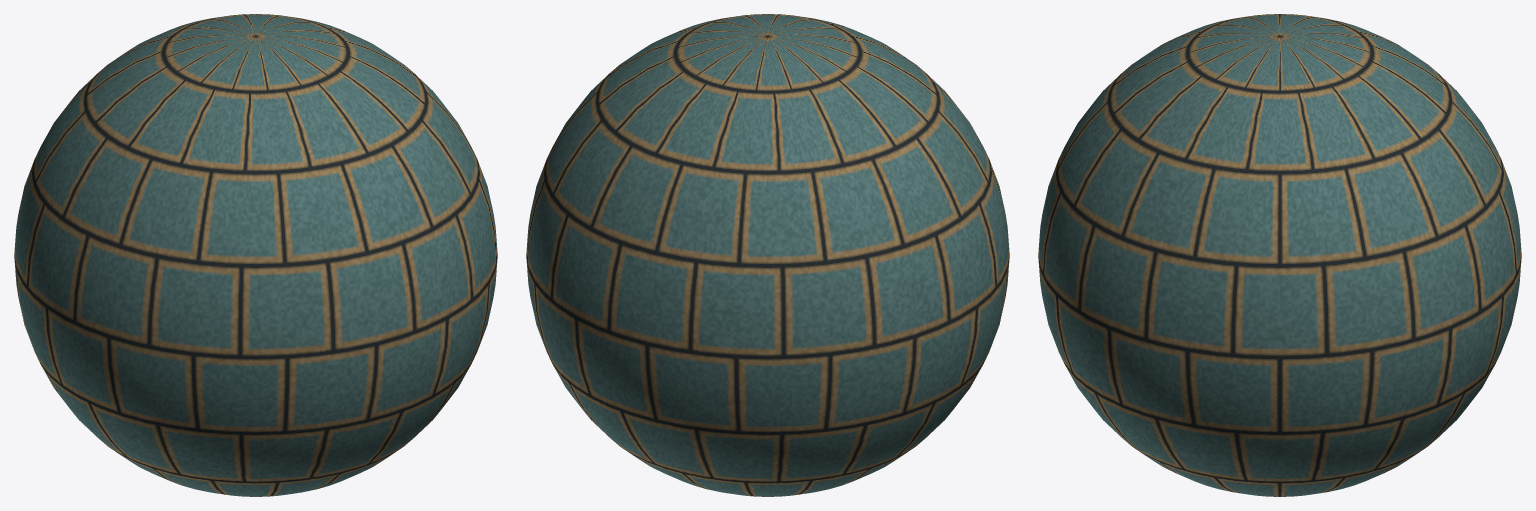
The model's file is normal-sphere.glb.
3 renders of one model, left to right at view 1: azimuth 30°, elevation 25°; view 2: azimuth 150°, elevation 25°; view 3: azimuth 270°, elevation 25°, orthographic.
Parts seen in each view (by area): view 1: Sphere; view 2: Sphere; view 3: Sphere.
Part boxes in pixels (x1,y1,x2,y2): Sphere: (14,14,497,496); Sphere: (526,14,1009,496); Sphere: (1038,14,1521,496).
Bounding box in the file's own units: 2 × 2 × 2.
1 material, 1 textured.
